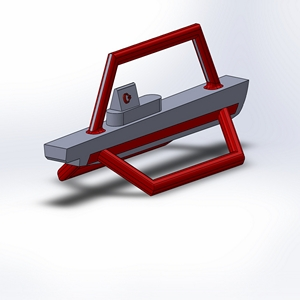submarine: (22, 9, 268, 215)
